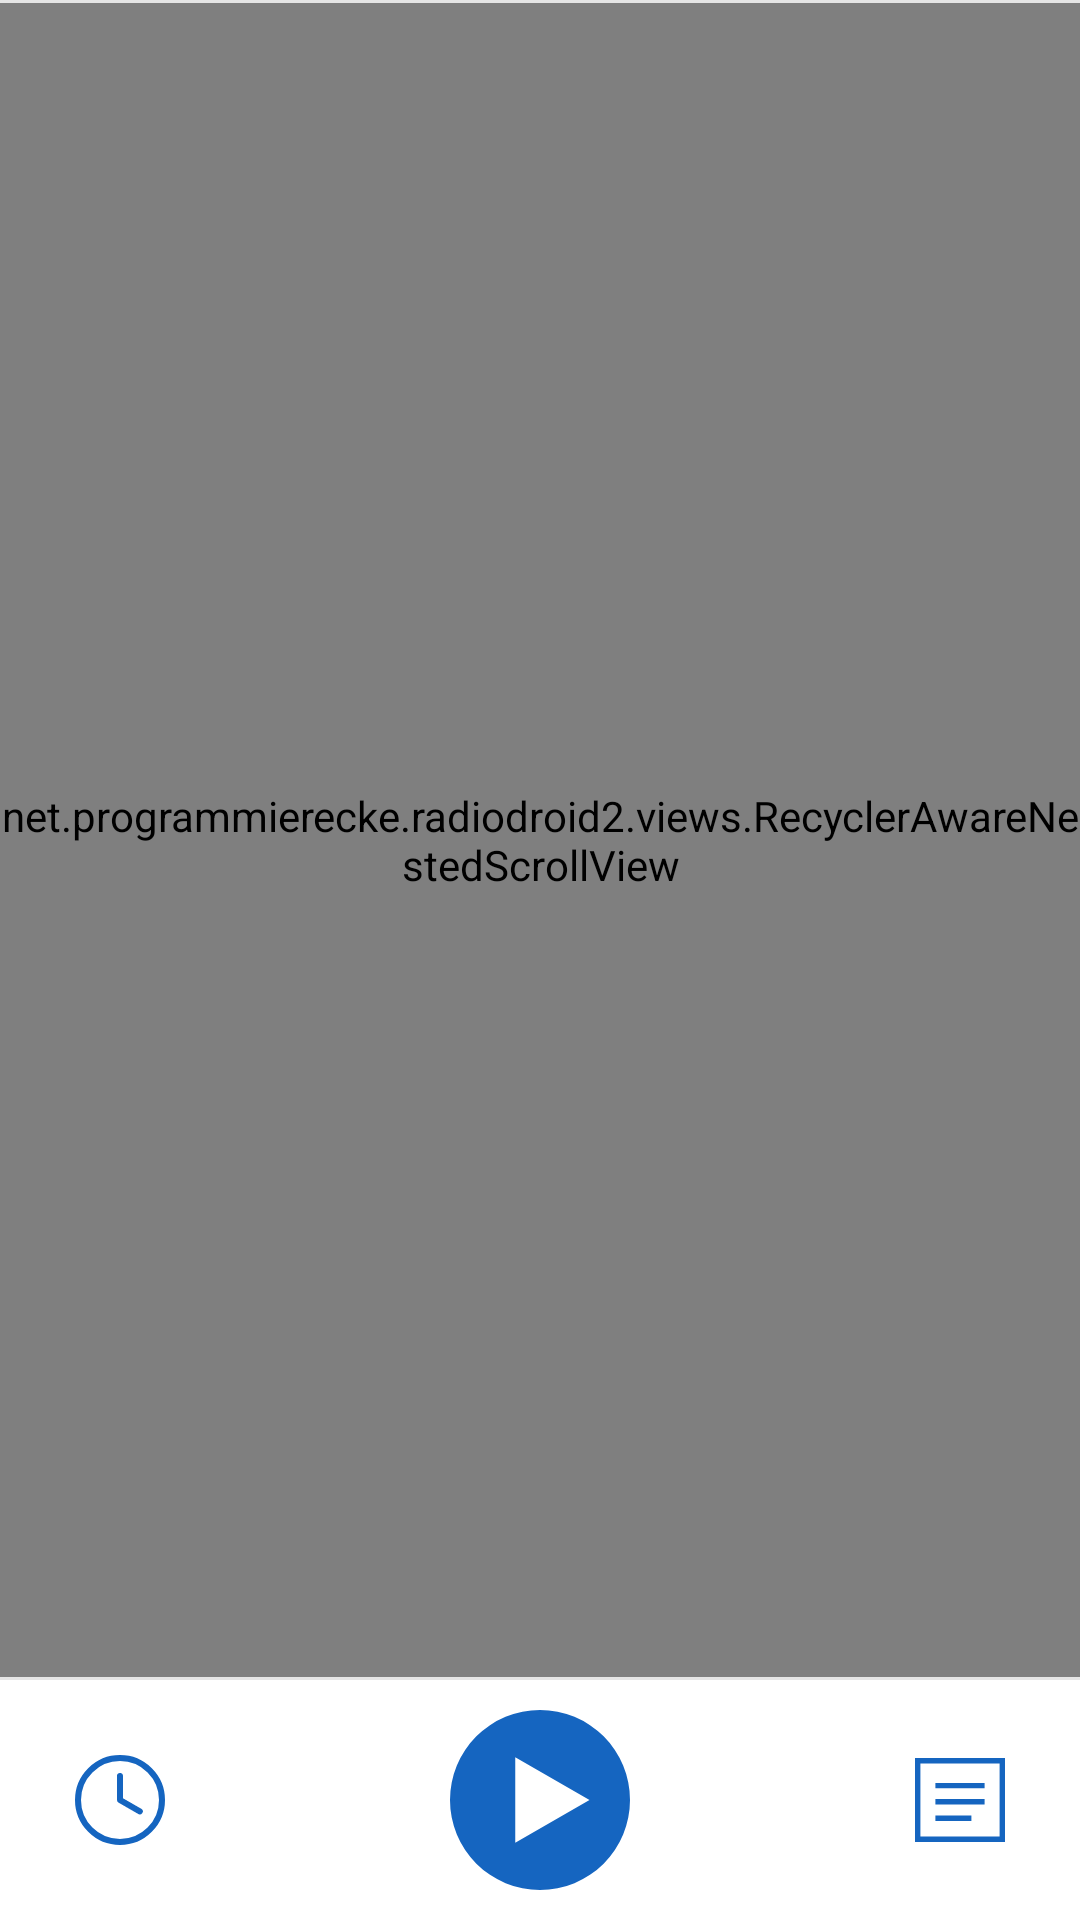

Icon bounding boxes for this 1080px x 1920px phone screenshot, format {"x1": x1, "y1": y1, "x2": x2, "y2": y2}:
Play: {"x1": 450, "y1": 1710, "x2": 630, "y2": 1890}
Sleep timer: {"x1": 75, "y1": 1755, "x2": 165, "y2": 1845}
